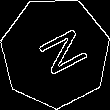N_SW: (24, 23, 86, 82)
